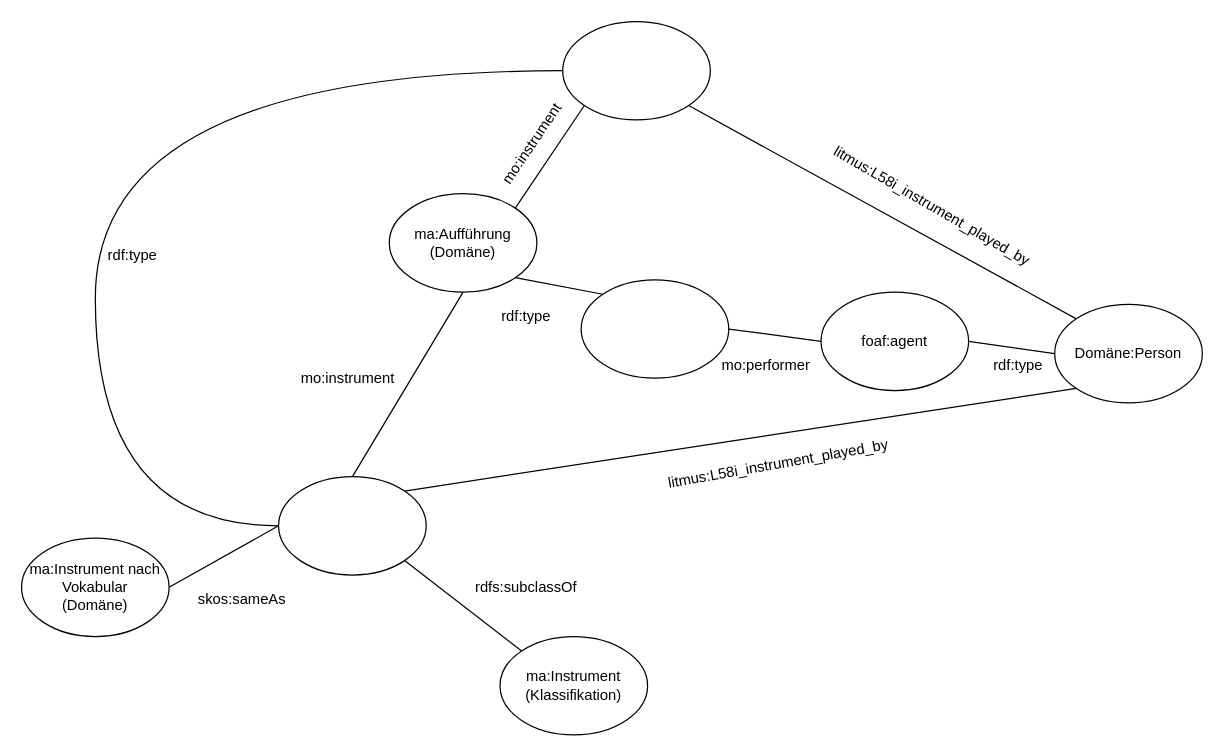
The diagram is 1224 pixels wide and 756 high, and some of its shapes have lost their labels. The shapes that lost their labels are listed below. From the top down, each one's box as (x1, y1, x2, y2) in pixels, then its label:
(561, 20, 710, 120): ma:Objekt (Domäne)
(580, 279, 729, 378): mo:performance
(277, 475, 426, 575): ma:InstrumentX (Klassifikation)
